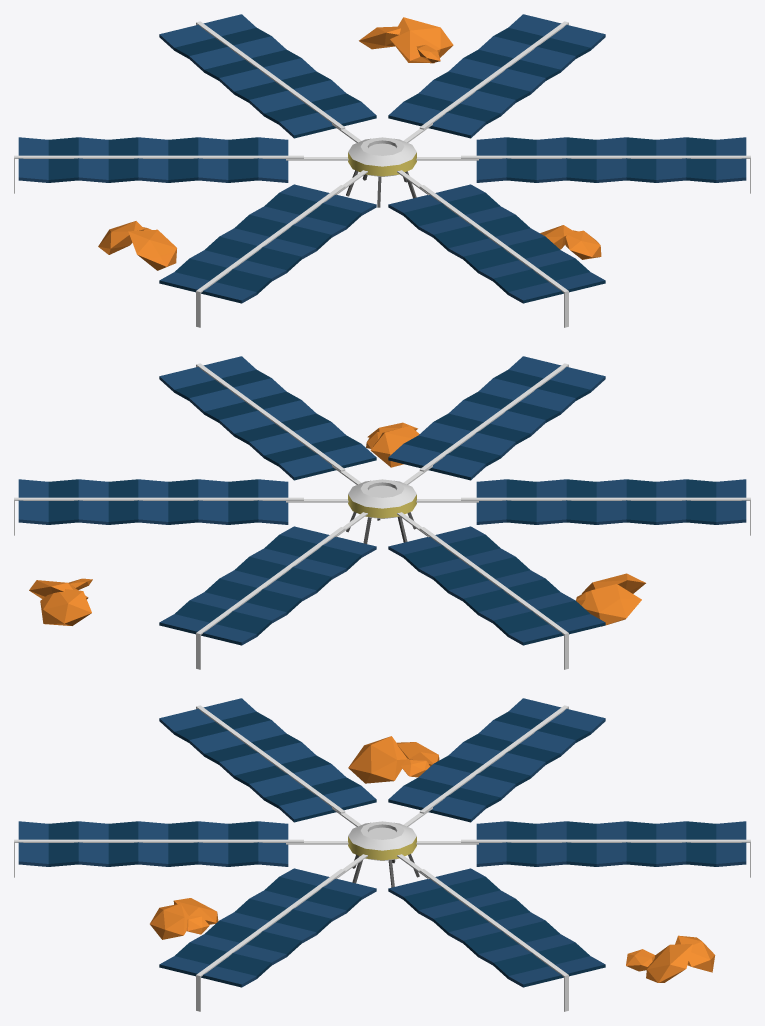
The model's file is SolarPanel.glb.
3 views of the same model, one above another, from view 1: azimuth 30°, elevation 25°; view 2: azimuth 150°, elevation 25°; view 3: azimuth 270°, elevation 25° (orthographic).
Parts seen in each view (by area): view 1: Cube.008, Icosphere.042, Cylinder.005; view 2: Cube.008, Icosphere.042, Cylinder.005; view 3: Cube.008, Icosphere.042, Cylinder.005.
Part boxes in pixels (x1,y1,x2,y2): Cube.008: (14, 14, 750, 327); Icosphere.042: (98, 17, 601, 270); Cylinder.005: (348, 137, 416, 176); Cube.008: (14, 356, 750, 669); Icosphere.042: (29, 422, 645, 626); Cylinder.005: (348, 479, 416, 518); Cube.008: (14, 698, 750, 1011); Icosphere.042: (150, 736, 715, 982); Cylinder.005: (348, 821, 416, 860).
Size of the model in its own units: 5.5 by 0.5241 by 5.99.
Materials: 1 (1 with a texture image).
